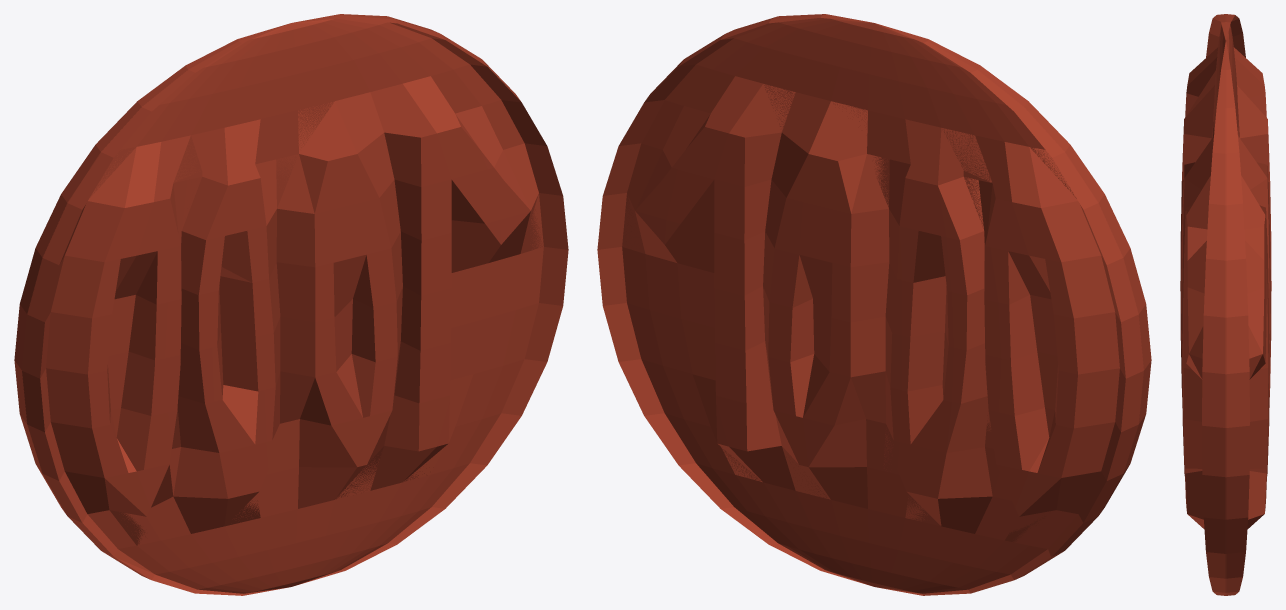
Rendered from Objeto.fbx.
3 renders of one model, left to right at view 1: azimuth 30°, elevation 25°; view 2: azimuth 150°, elevation 25°; view 3: azimuth 270°, elevation 25°, orthographic. The views are drawn at different scales.
Parts seen in each view (by area): view 1: Sphere; view 2: Sphere; view 3: Sphere.
Boxes of the visible parts, x1=… form: Sphere: x1=14, y1=14, x2=568, y2=595; Sphere: x1=597, y1=14, x2=1151, y2=595; Sphere: x1=1180, y1=14, x2=1271, y2=595.
Bounding box in the file's own units: 200 × 200 × 31.26.
